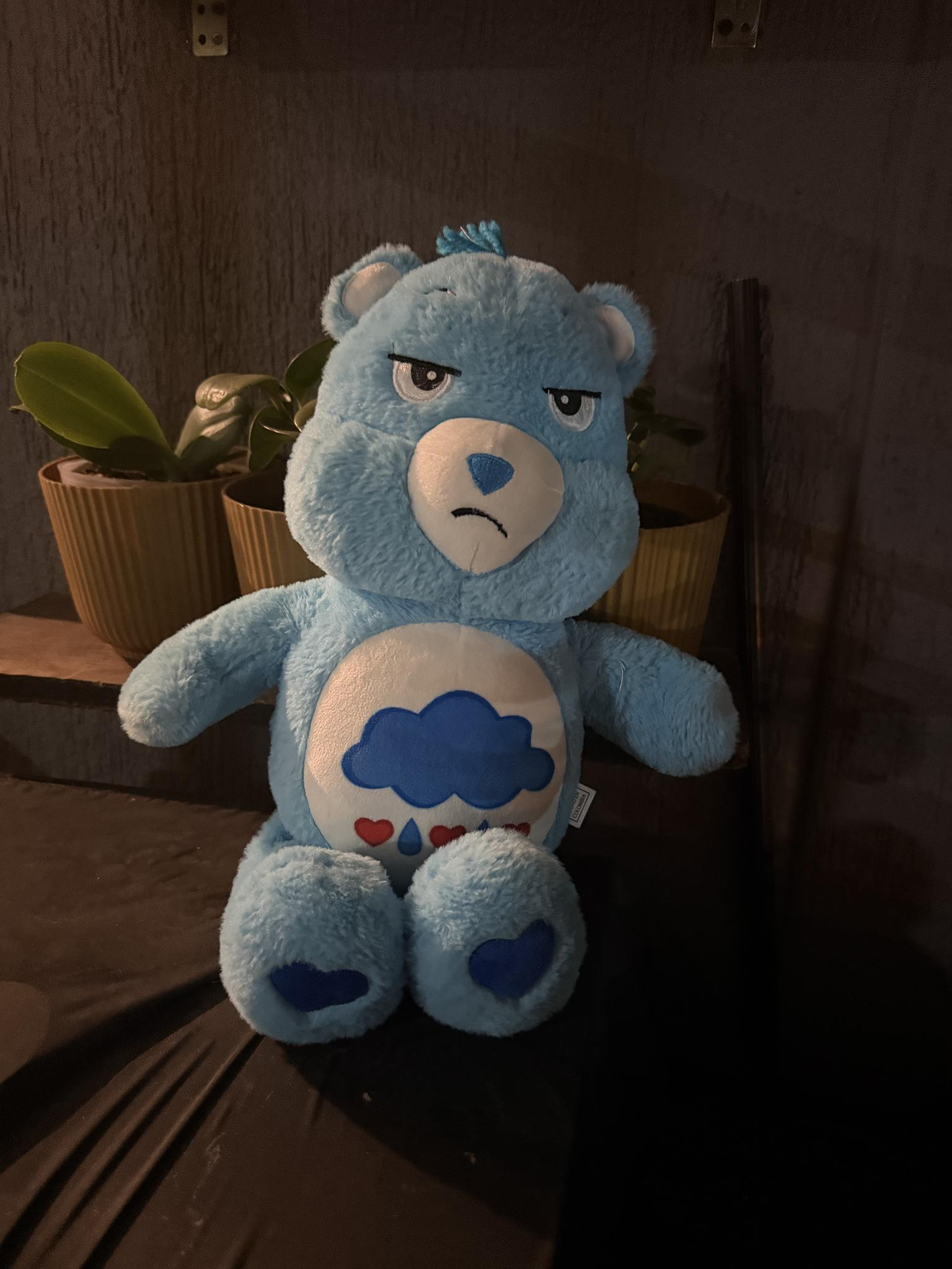peluche_Juan Jose: (109, 231, 753, 1049)
